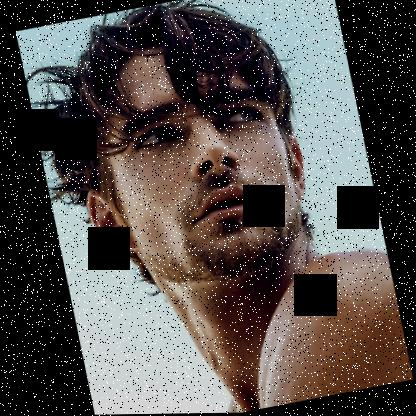Male: (55, 26, 324, 303)
